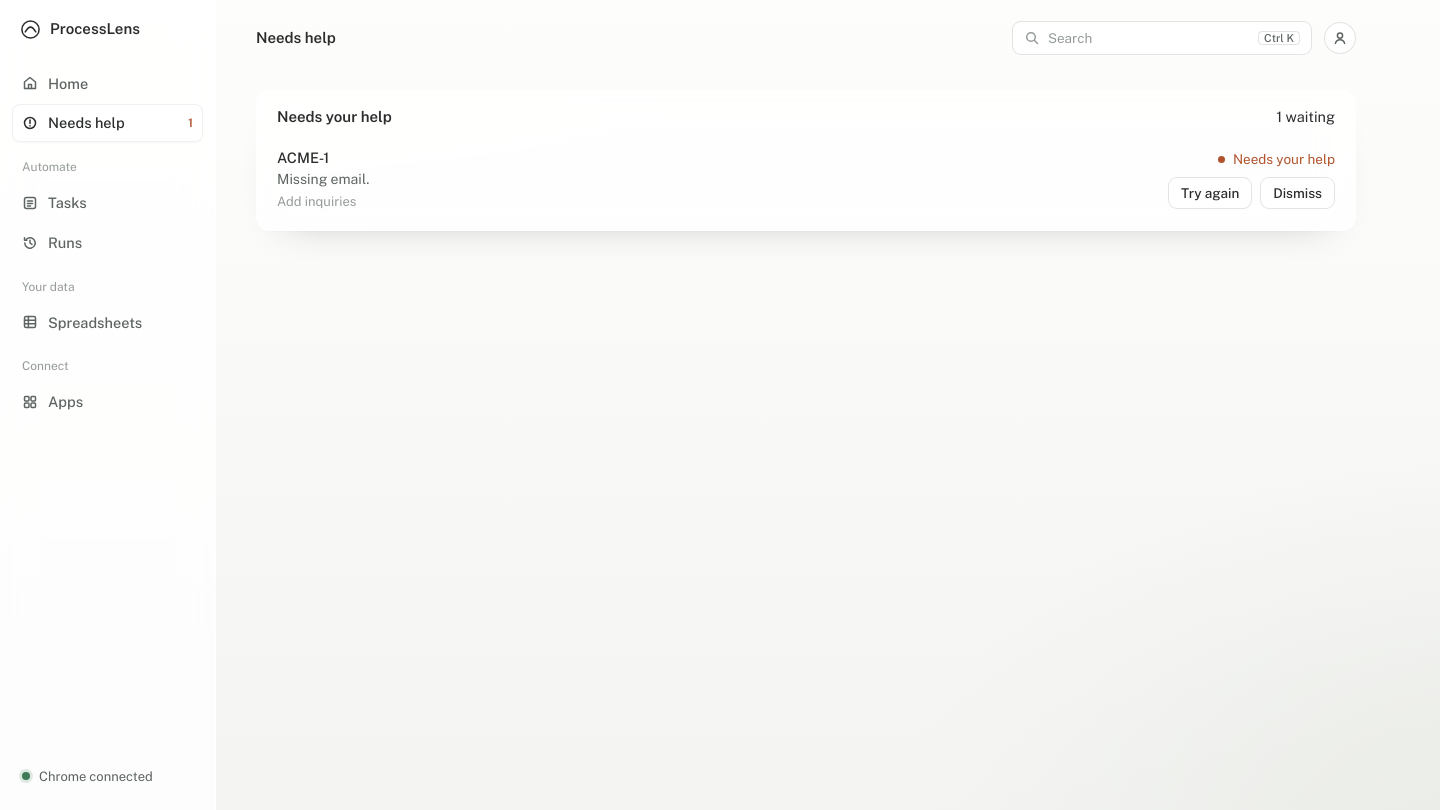
Test: a refused request shows one plain sentence next to the button › shows a 409 from Try again beside the Try again button, in the same plain words
Click the button with class "record-requeue".
click(1210, 193)  # box [1168,177,1252,209]
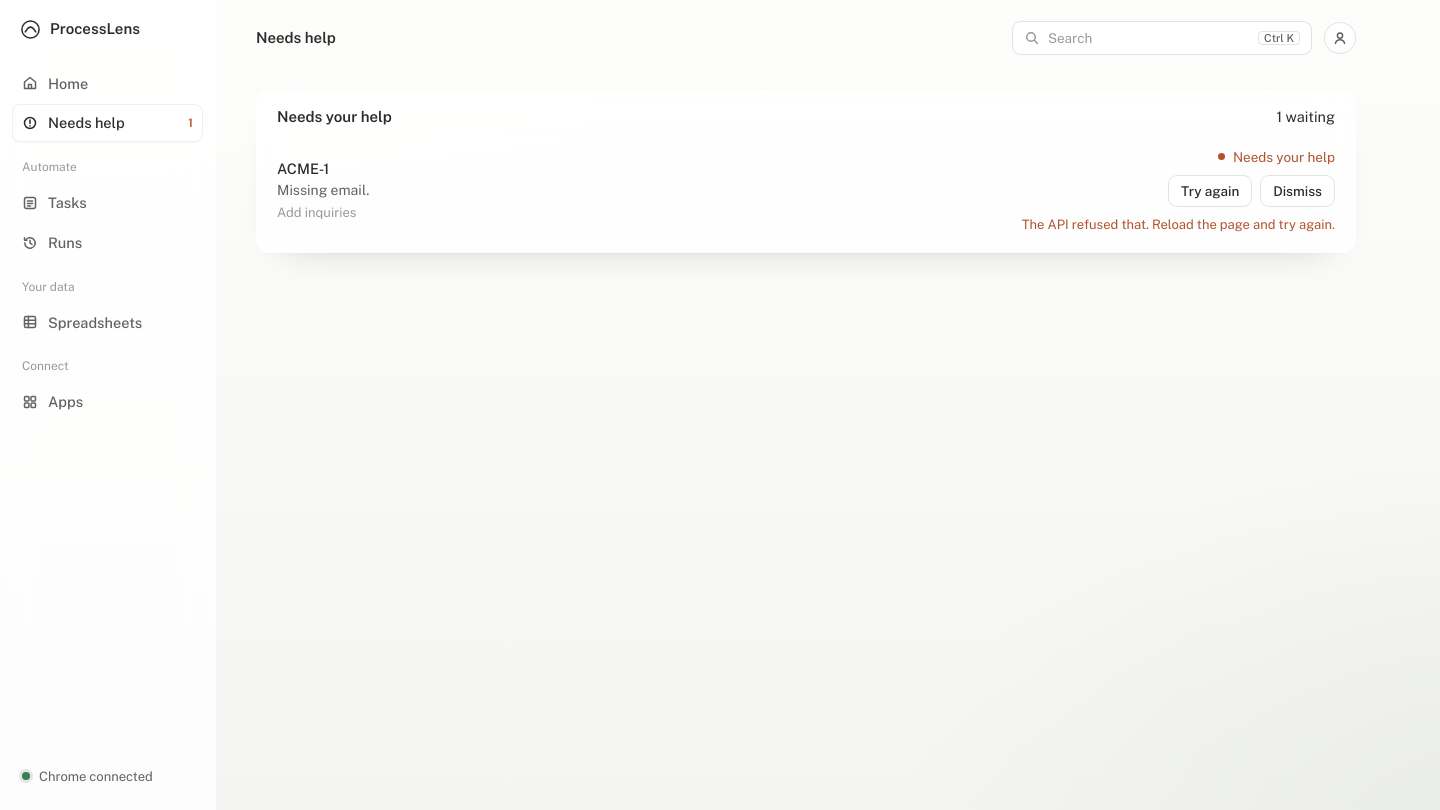
Now the message with class "action-error" reads "The API refused that. Reload the page and try again.", box [1022,217,1335,232]
